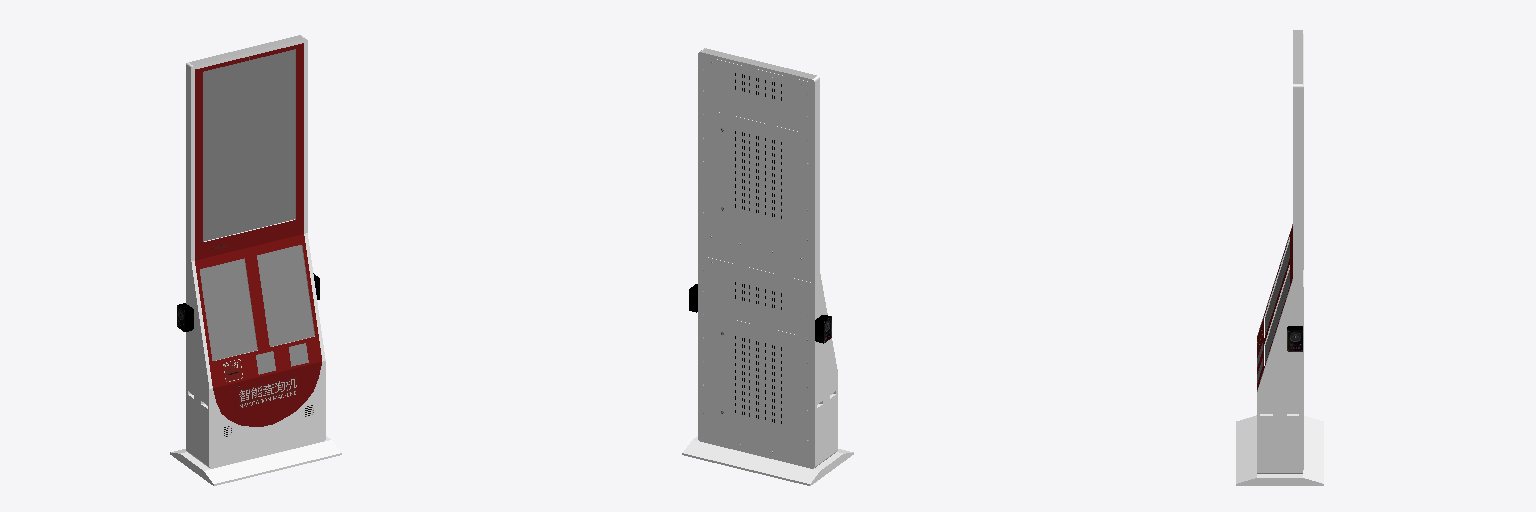
3 renders of one model, left to right at view 1: azimuth 30°, elevation 25°; view 2: azimuth 150°, elevation 25°; view 3: azimuth 270°, elevation 25°, orthographic.
Visible parts, largest first — view 1: Box001; view 2: Box001; view 3: Box001.
Part boxes in pixels (left/top/right/bottom): Box001: left=170, top=35, right=341, bottom=485; Box001: left=682, top=48, right=853, bottom=485; Box001: left=1236, top=30, right=1323, bottom=485.
Bounding box in the file's own units: 116 × 327 × 65.
21 materials, 12 textured.